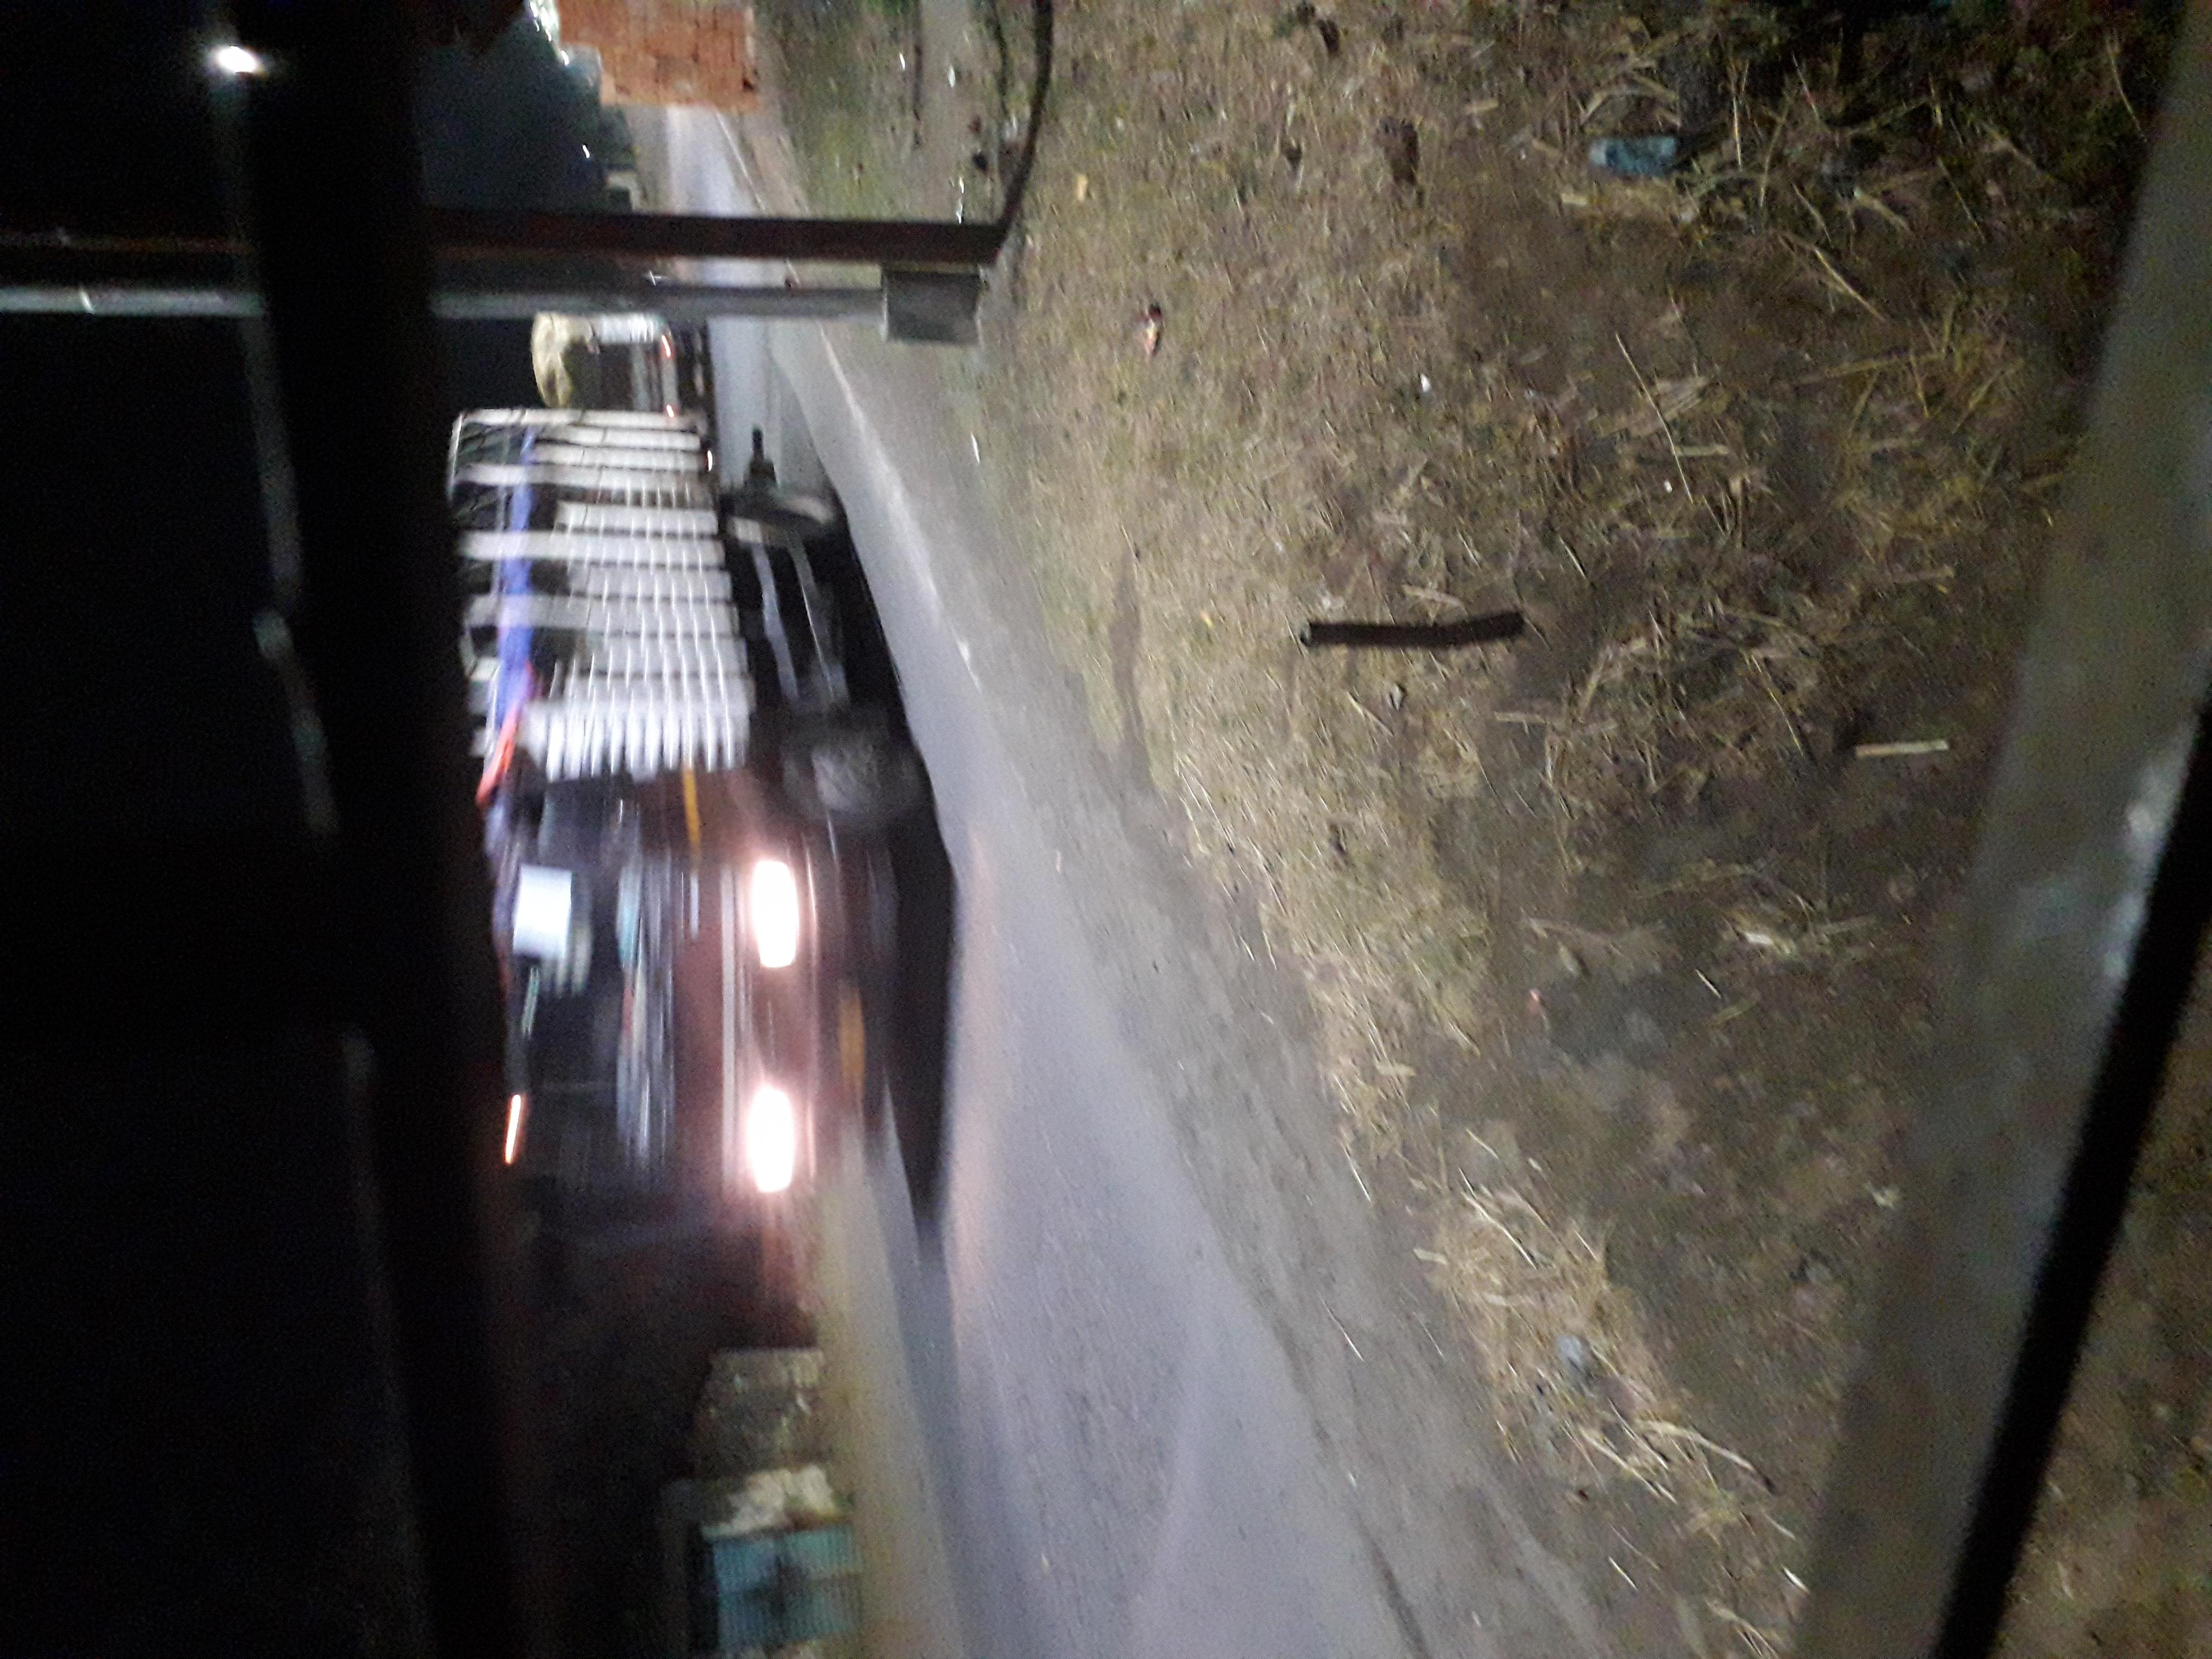Truck: (577, 343, 1658, 690)
